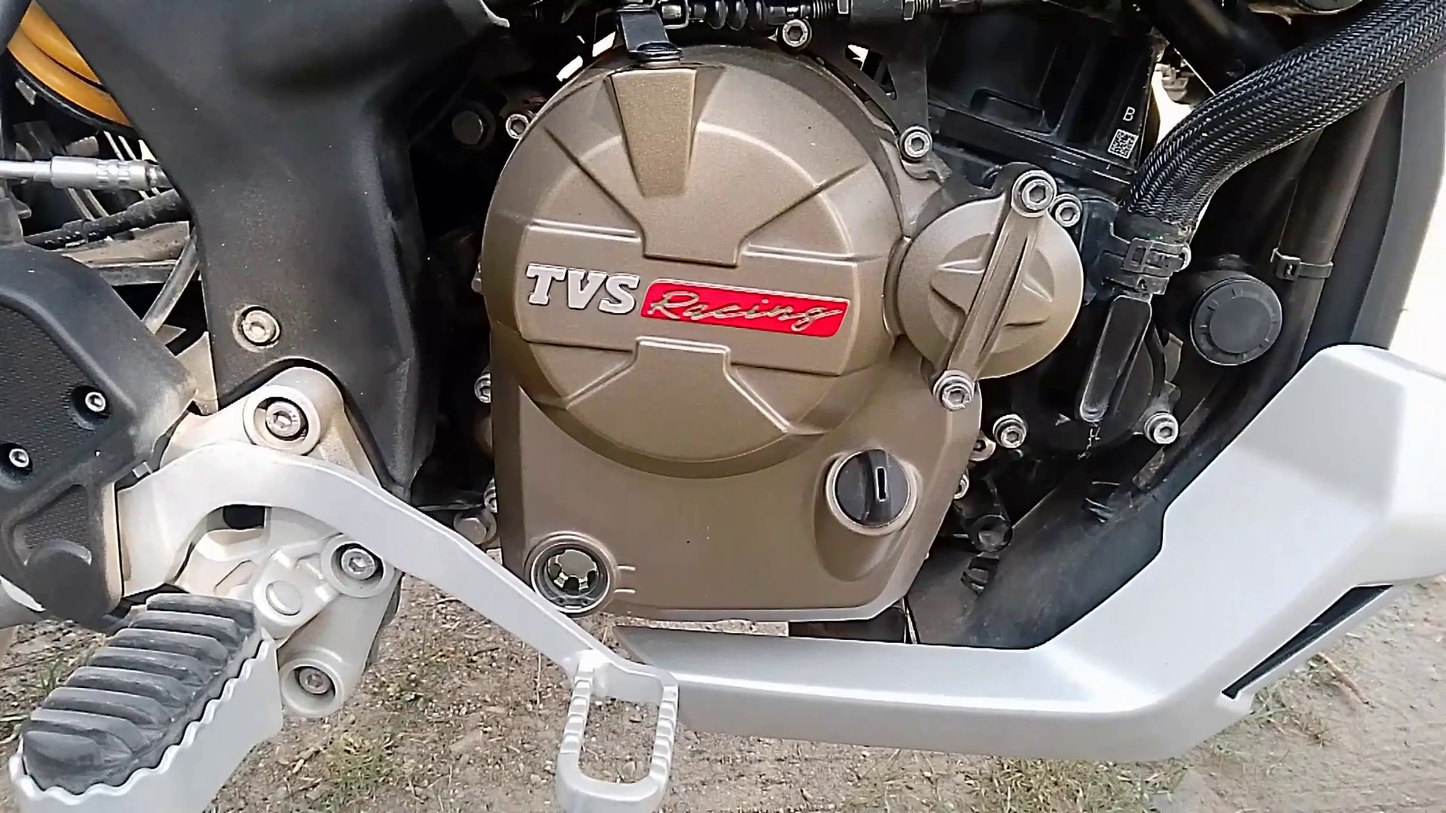bike-engine: (478, 41, 1093, 631)
bike-engine-level: (525, 531, 618, 616)
bike-oil-cap: (808, 437, 924, 536)
